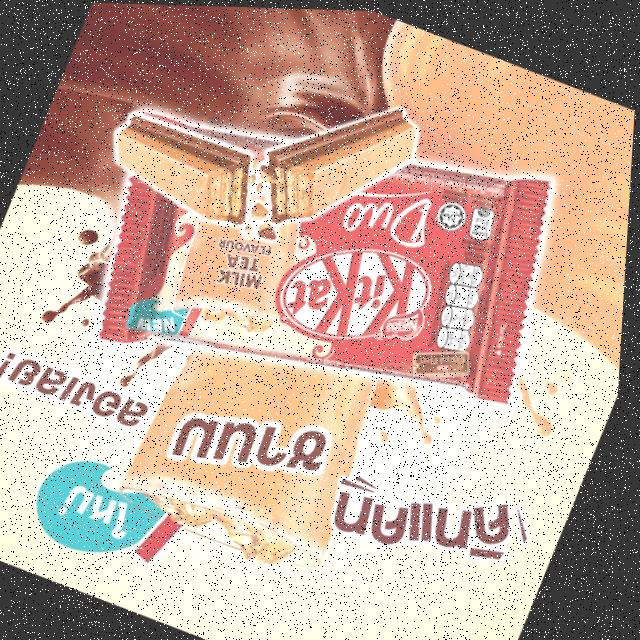kitkat: (69, 34, 604, 481)
